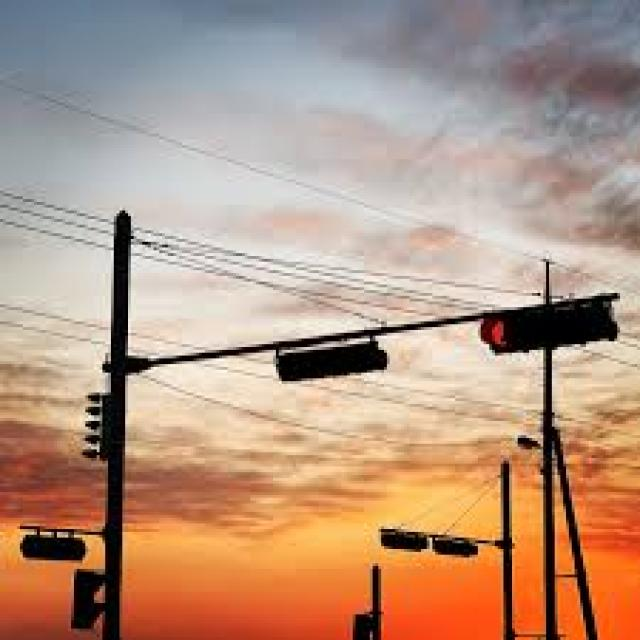Red Light: (475, 307, 517, 356)
